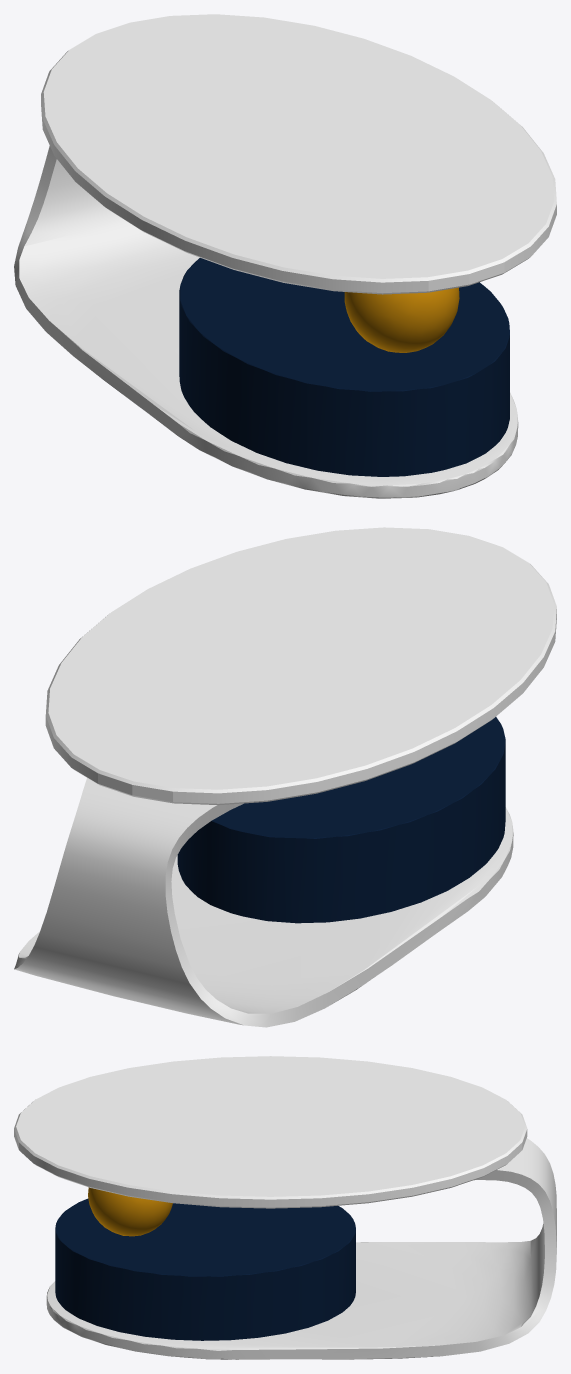
The model's file is SM_Env_CoffeeTable.fbx.
The picture shows the model from 3 angles, top to bottom: view 1: azimuth 30°, elevation 25°; view 2: azimuth 150°, elevation 25°; view 3: azimuth 270°, elevation 25°; orthographic projection. The views are drawn at different scales.
Visible parts, largest first — view 1: SM_Env_CoffeeTable; view 2: SM_Env_CoffeeTable; view 3: SM_Env_CoffeeTable.
Boxes of the visible parts, left/top/right/bottom form: SM_Env_CoffeeTable: left=14, top=14, right=556, bottom=498; SM_Env_CoffeeTable: left=14, top=527, right=556, bottom=1027; SM_Env_CoffeeTable: left=14, top=1056, right=556, bottom=1359.
Bounding box in the file's own units: 0.7331 × 0.43 × 1.18.
